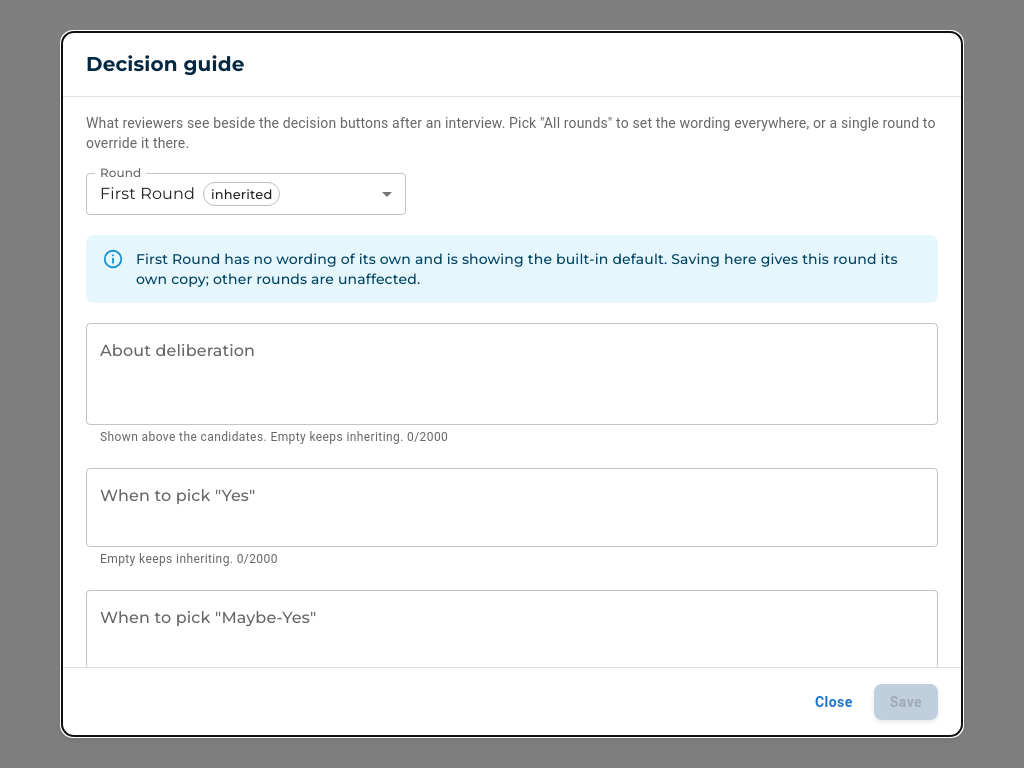
Test: surfaces a failed save instead of pretending it worked
Expected: the text "has no wording of its own" is shown, [220,250,528,268]
Click the button "Save" at (906, 702), box [874,684,938,720]
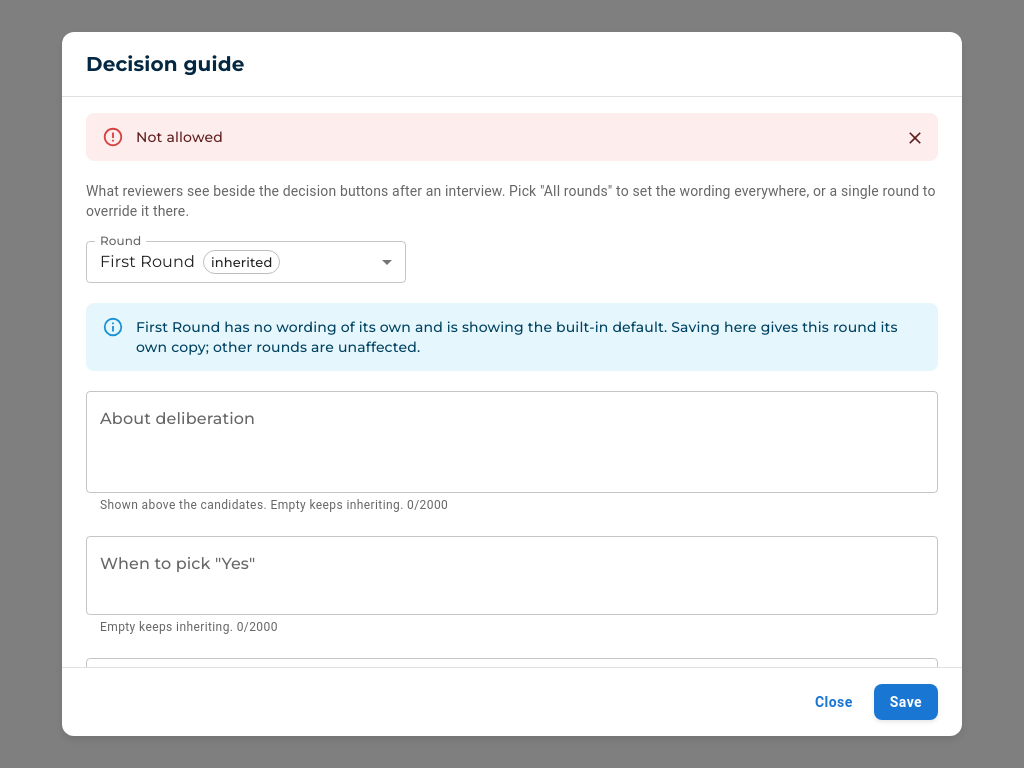
Now the text "Not allowed" is shown, box [136,128,223,146]
